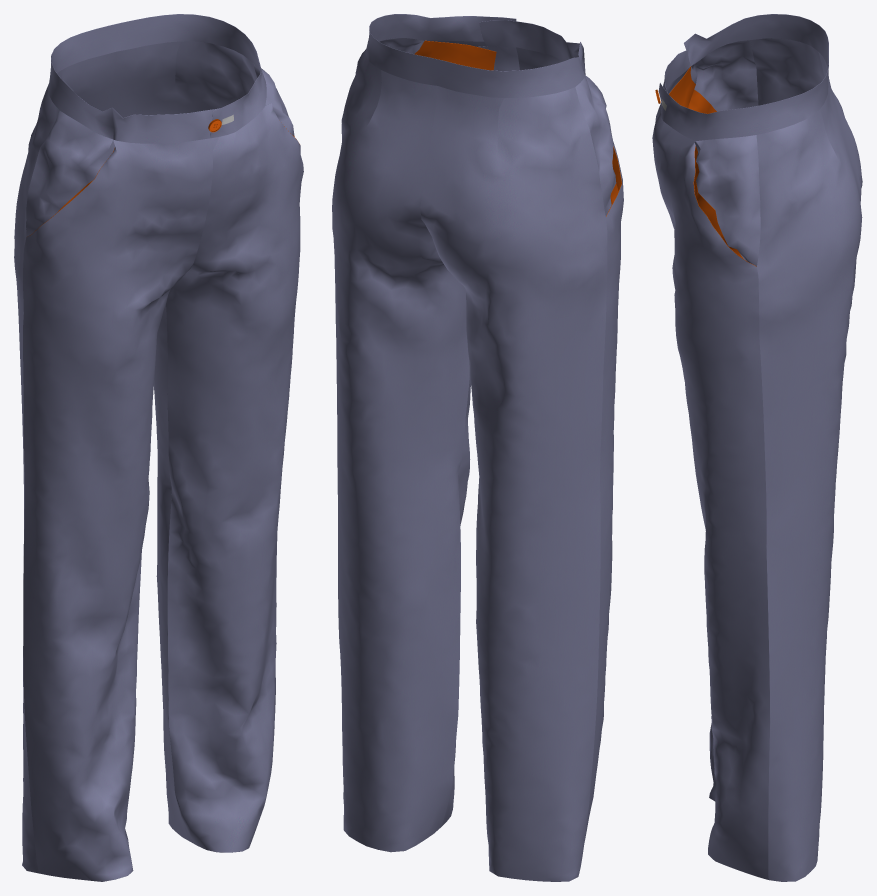
3 renders of one model, left to right at view 1: azimuth 30°, elevation 25°; view 2: azimuth 150°, elevation 25°; view 3: azimuth 270°, elevation 25°, orthographic. The views are drawn at different scales.
Parts seen in each view (by area): view 1: Pattern2D_766542, Pattern2D_766544, AMFI BAP_2, OPC00WAB4, AMFI BAP_3, Pattern2D_766543, Pattern2D_766545; view 2: AMFI BAP_3, AMFI BAP_2, OPC00WAB4, Pattern2D_766542, Pattern2D_766543, Pattern2D_766546, Pattern2D_766544, FLF_1; view 3: AMFI BAP_2, Pattern2D_766544, OPC00WAB4, Pattern2D_766545, AMFI BAP_3, Pattern2D_766543, Pattern2D_766548, Pattern2D_766546, Pattern2D_766542.
Boxes of the visible parts, x1=… form: Pattern2D_766542: x1=22, y1=138, x2=212, y2=881; Pattern2D_766544: x1=166, y1=103, x2=303, y2=852; AMFI BAP_2: x1=106, y1=41, x2=257, y2=840; OPC00WAB4: x1=48, y1=14, x2=266, y2=143; AMFI BAP_3: x1=14, y1=51, x2=116, y2=873; Pattern2D_766543: x1=26, y1=111, x2=114, y2=236; Pattern2D_766545: x1=253, y1=63, x2=294, y2=135; AMFI BAP_3: x1=420, y1=86, x2=607, y2=881; AMFI BAP_2: x1=332, y1=49, x2=469, y2=852; OPC00WAB4: x1=365, y1=14, x2=585, y2=98; Pattern2D_766542: x1=516, y1=47, x2=623, y2=840; Pattern2D_766543: x1=575, y1=70, x2=616, y2=215; Pattern2D_766546: x1=414, y1=40, x2=496, y2=70; Pattern2D_766544: x1=428, y1=40, x2=486, y2=826; FLF_1: x1=478, y1=46, x2=519, y2=71; AMFI BAP_2: x1=756, y1=84, x2=862, y2=881; Pattern2D_766544: x1=652, y1=113, x2=770, y2=879; OPC00WAB4: x1=658, y1=14, x2=828, y2=140; Pattern2D_766545: x1=694, y1=135, x2=760, y2=266; AMFI BAP_3: x1=751, y1=38, x2=862, y2=187; Pattern2D_766543: x1=690, y1=40, x2=758, y2=111; Pattern2D_766548: x1=669, y1=66, x2=716, y2=113; Pattern2D_766546: x1=694, y1=146, x2=743, y2=258; Pattern2D_766542: x1=655, y1=67, x2=716, y2=801.
Bounding box in the file's own units: 41.55 × 120 × 29.47.
